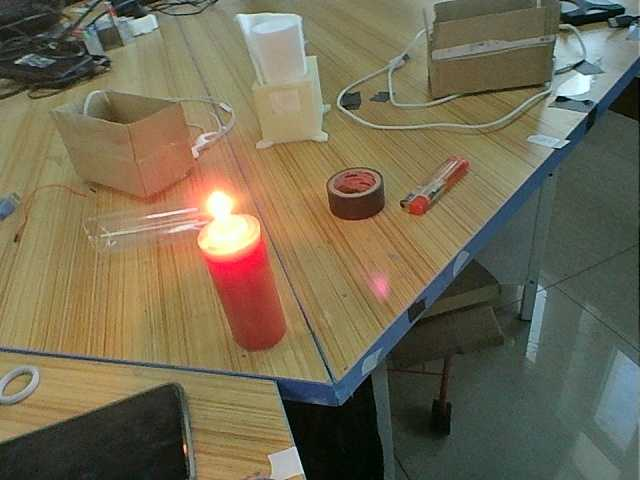candle: (196, 248, 282, 349)
fire: (198, 191, 264, 246)
